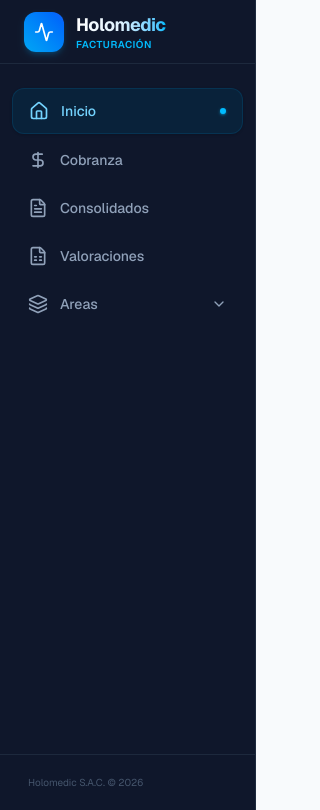
Test: Sidebar Component › AreasMenuItem dropdown › debe cerrar el dropdown al presionar Escape
Click the button "Areas" at (128, 304), box top-left (12, 282), bottom-right (243, 326)
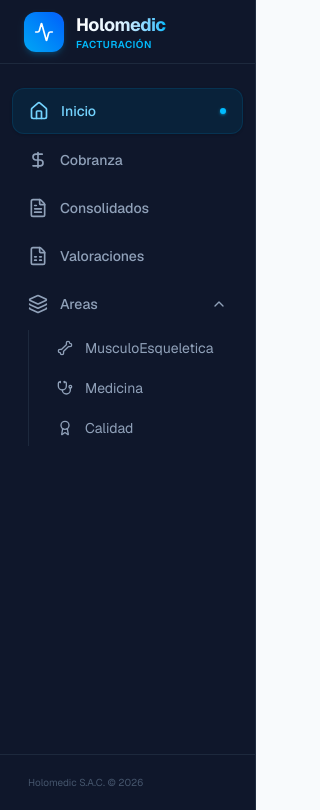
Expected: the text "MusculoEsqueletica" is shown, top-left (85, 338), bottom-right (214, 358)
Press Escape
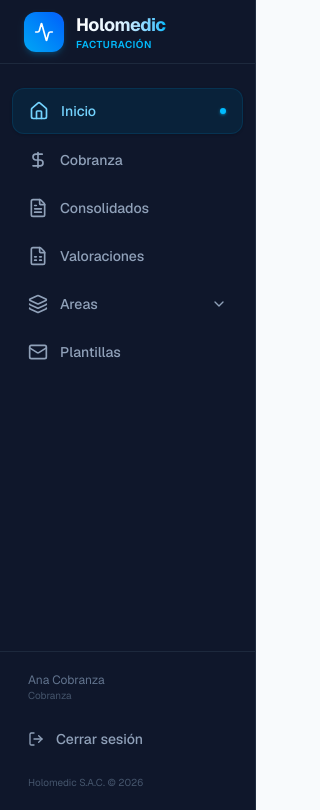
Expected: the menu item "MusculoEsqueletica" is gone
